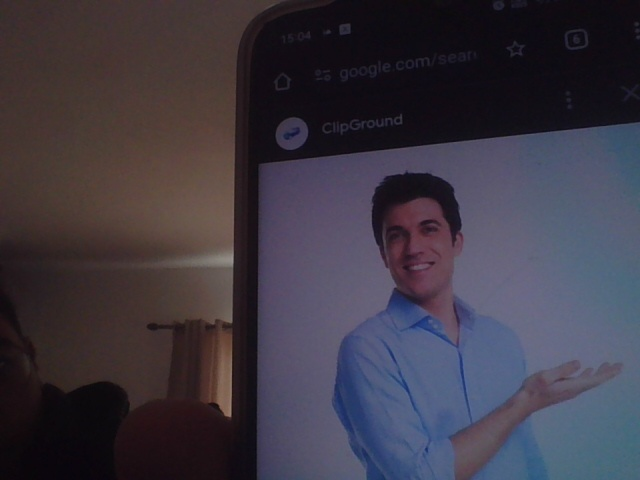fake: (373, 160, 470, 297)
